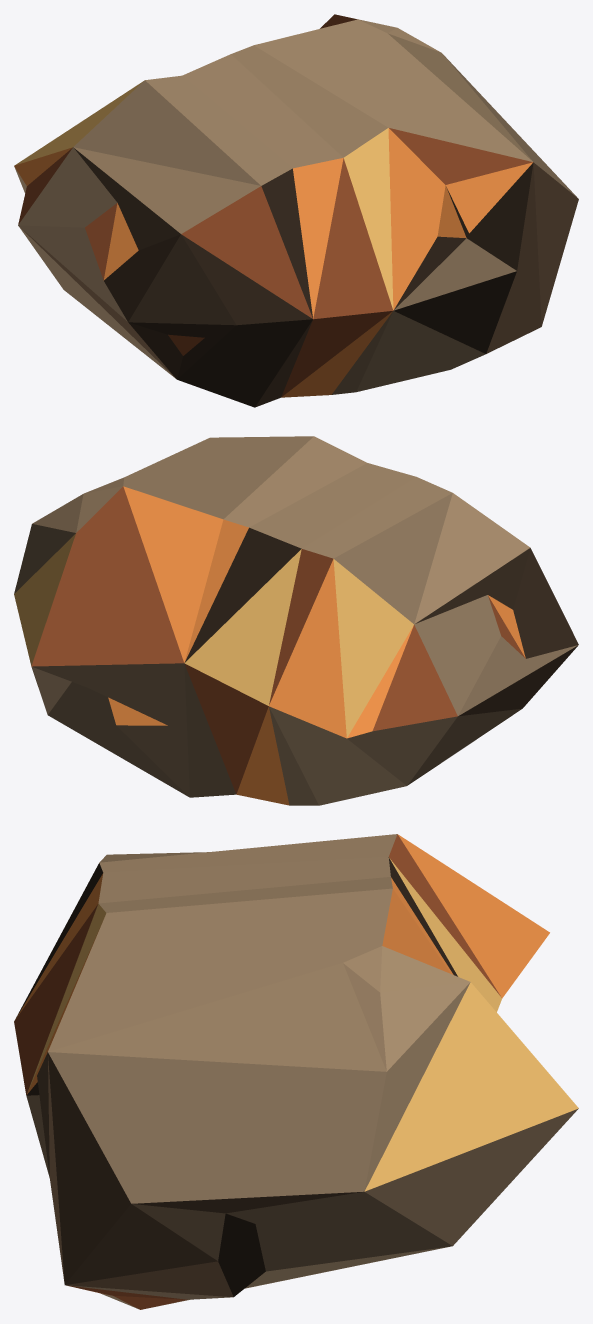
Rendered from CopperOreRock.glb.
3 renders of one model, top to bottom at view 1: azimuth 30°, elevation 25°; view 2: azimuth 150°, elevation 25°; view 3: azimuth 270°, elevation 25°, orthographic. The views are drawn at different scales.
Parts seen in each view (by area): view 1: CopperOreRock_ExportDarkBrown; view 2: CopperOreRock_ExportDarkBrown; view 3: CopperOreRock_ExportDarkBrown.
Part boxes in pixels (box(x1,y1,x2,y2)): CopperOreRock_ExportDarkBrown: box(14, 14, 578, 407); CopperOreRock_ExportDarkBrown: box(14, 436, 578, 805); CopperOreRock_ExportDarkBrown: box(14, 834, 578, 1309).
Bounding box in the file's own units: 0.2701 × 0.1591 × 0.2236.
